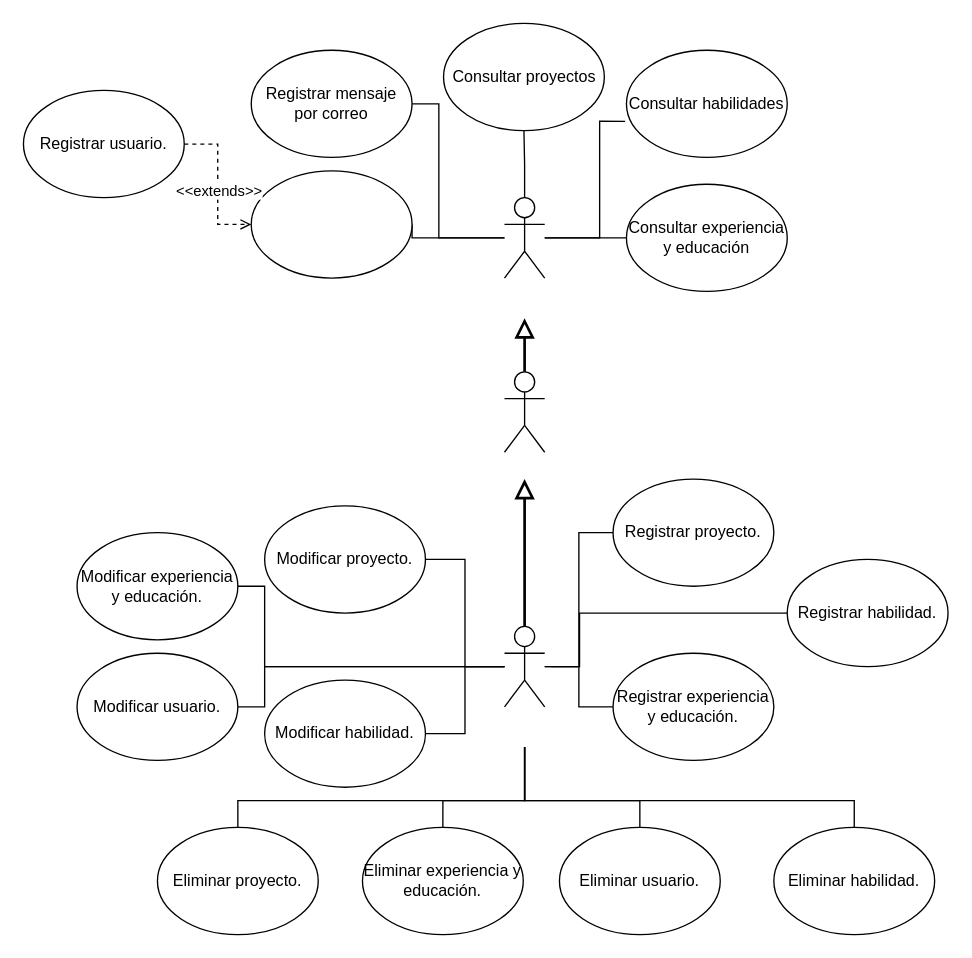
Some shapes in this 972 by 958 pixel diagram are drawn without their labels. Here are the shapes that lost their labels. From the top down, the centre of each, then its label:
At pixel 331 224: "Iniciar sesión".
At pixel 524 237: "No autenticado".
At pixel 524 411: "Visitante".
At pixel 524 666: "Administrador".
